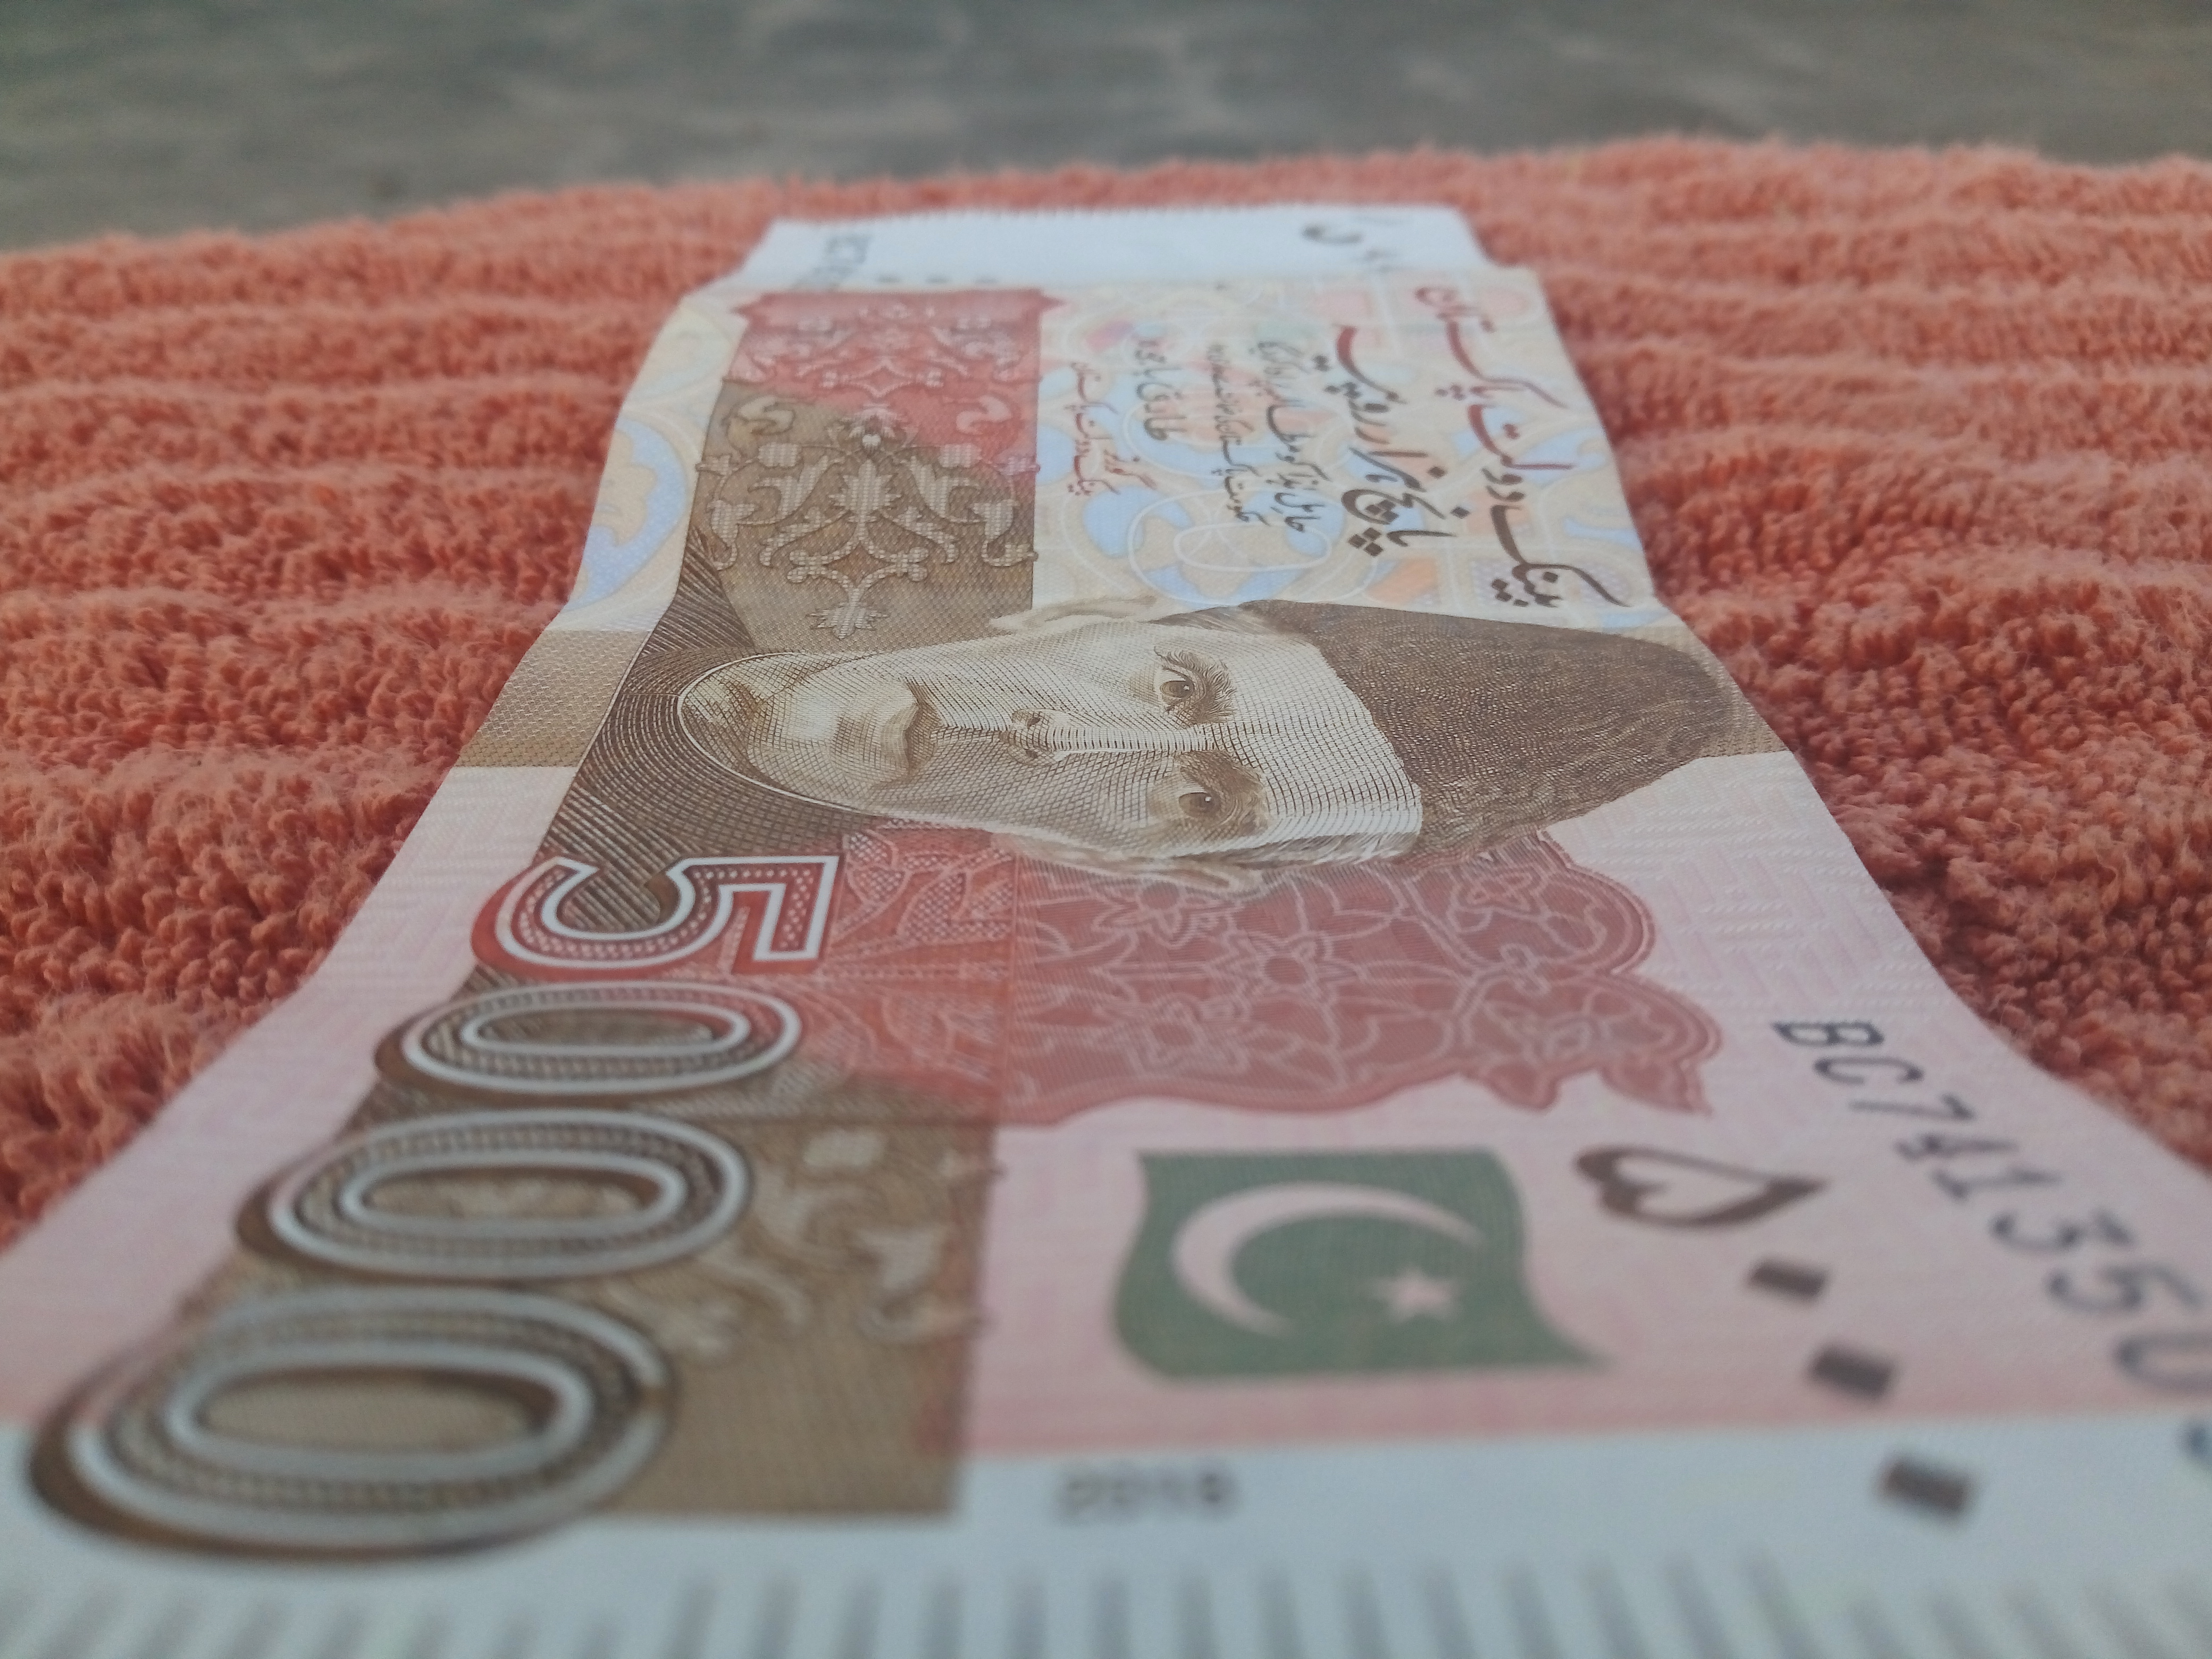5000 rupee: (64, 166, 2212, 1659)
